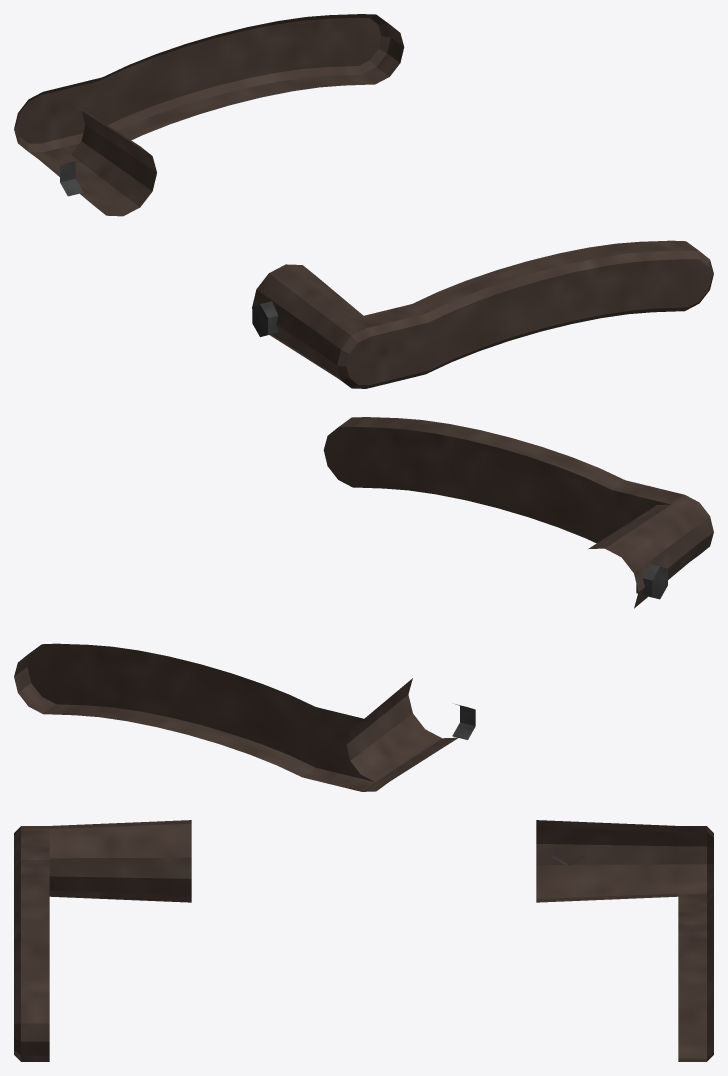
The picture shows the model from 3 angles, top to bottom: view 1: azimuth 30°, elevation 25°; view 2: azimuth 150°, elevation 25°; view 3: azimuth 270°, elevation 25°; orthographic projection. The views are drawn at different scales.
Visible parts, largest first — view 1: door_handle_1; view 2: door_handle_1; view 3: door_handle_1.
Boxes of the visible parts, x1=… form: door_handle_1: x1=14, y1=14, x2=713, y2=388; door_handle_1: x1=14, y1=417, x2=713, y2=791; door_handle_1: x1=14, y1=820, x2=713, y2=1061.
Bounding box in the file's own units: 0.134 × 0.0265 × 0.197.
Materials: 2 (2 with a texture image).
